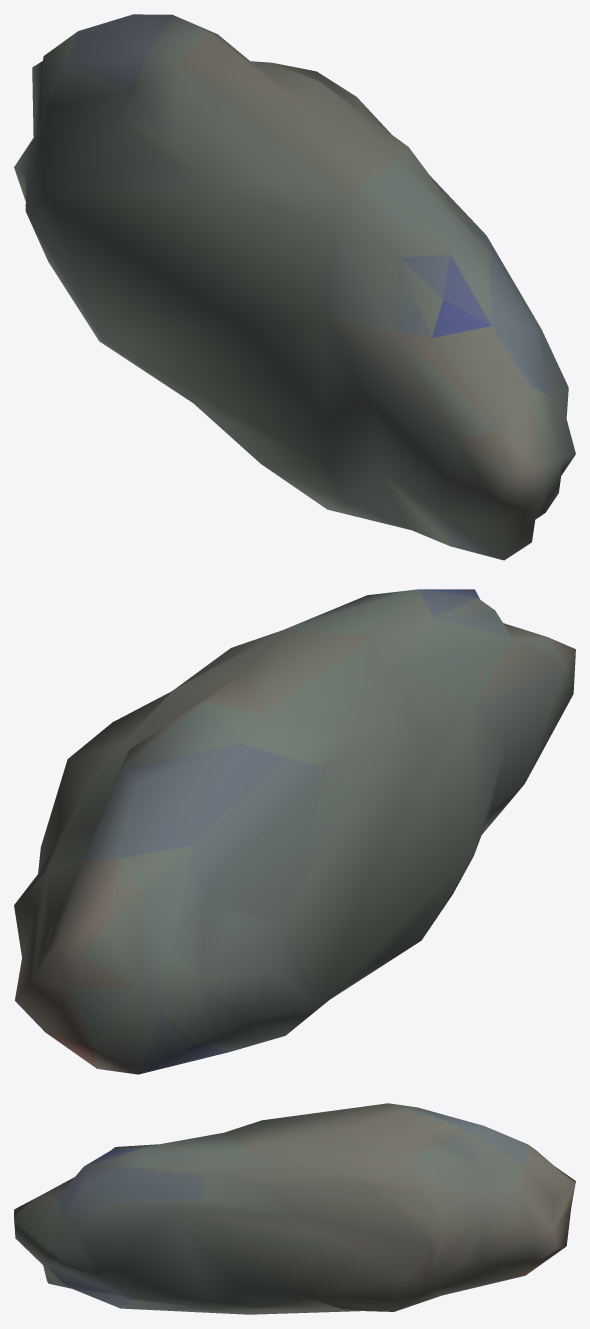
Rendered from Rock_1_collider.fbx.
3 renders of one model, top to bottom at view 1: azimuth 30°, elevation 25°; view 2: azimuth 150°, elevation 25°; view 3: azimuth 270°, elevation 25°, orthographic. The views are drawn at different scales.
Visible parts, largest first — view 1: Rock_1; view 2: Rock_1; view 3: Rock_1.
Boxes of the visible parts, box(x1,y1,x2,y2) form: Rock_1: box(14, 14, 575, 560); Rock_1: box(14, 589, 575, 1074); Rock_1: box(14, 1103, 575, 1314).
Size of the model in its own units: 442 by 575 by 1429.
